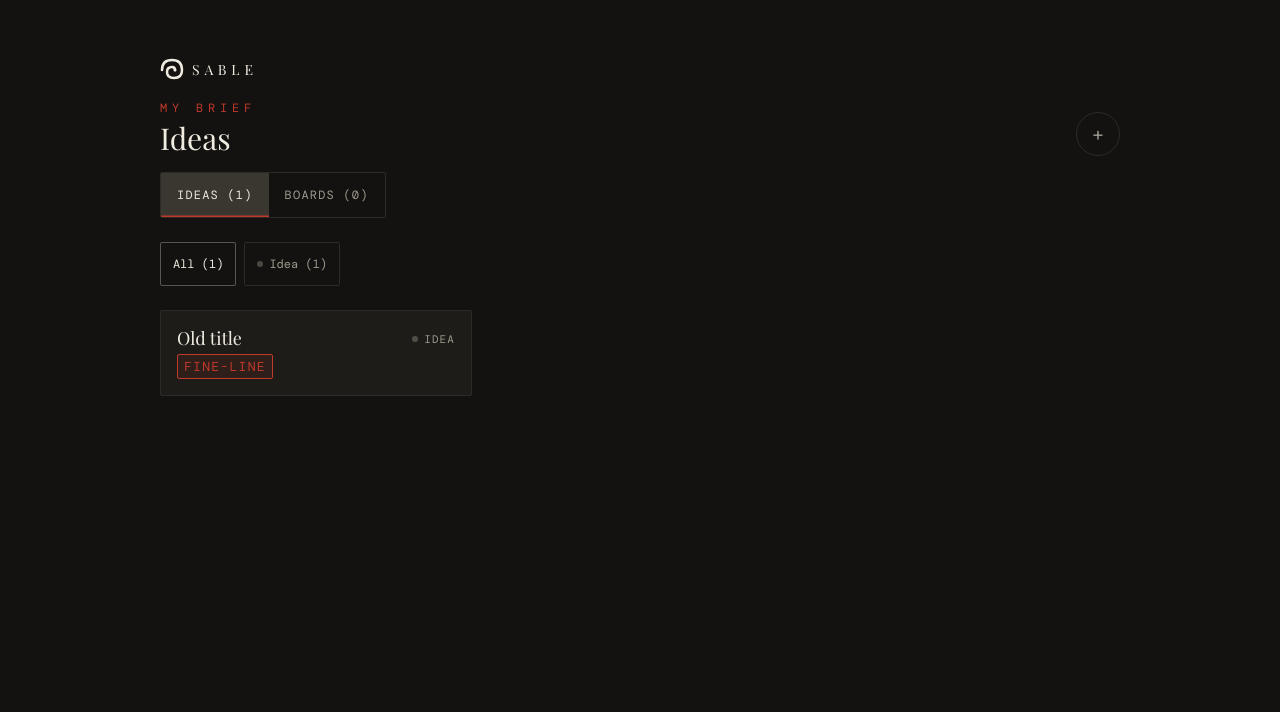
Scenario: a field an external change lands on survives an unrelated save (#63) › keeps a tag added while the composer was open, editing only the title
This screenshot has width=1280, height=712.
Click the heading "Old title". click: [209, 338]
box: [177,327,242,350]
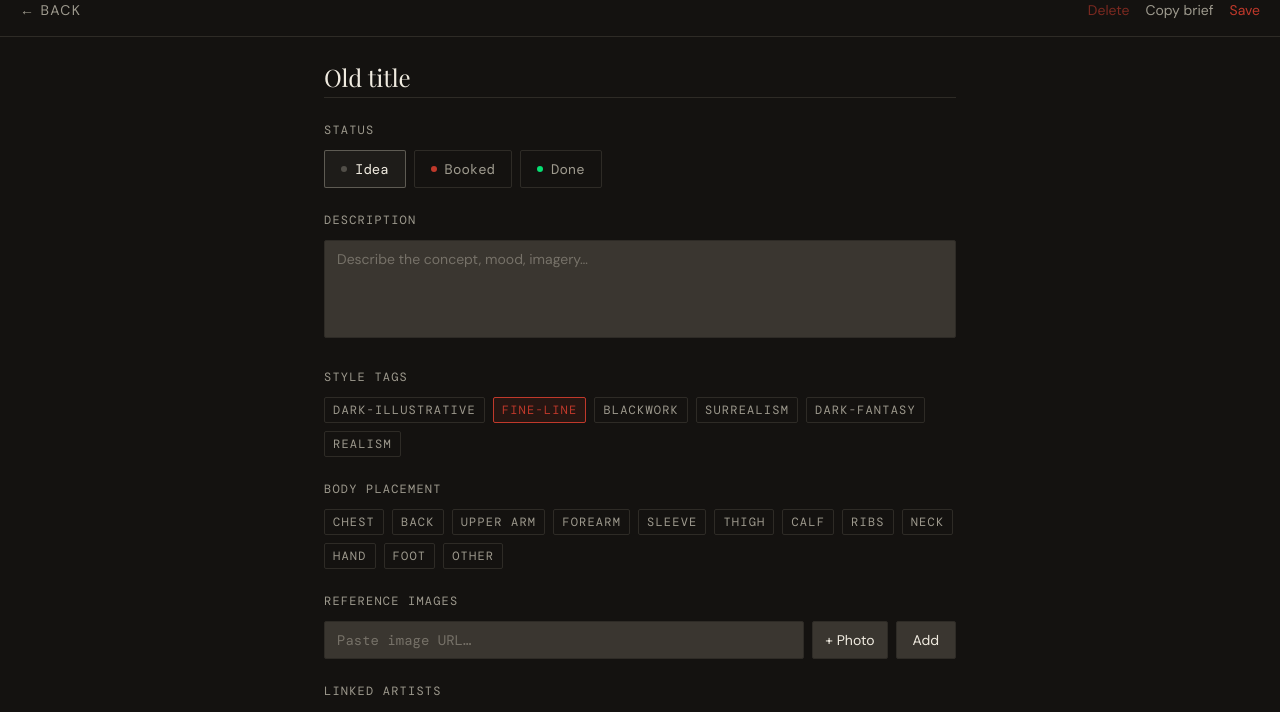
Replace the text in the field with placeholder "Idea title…" with "New title". click: [640, 80]
box: [324,61,956,98]
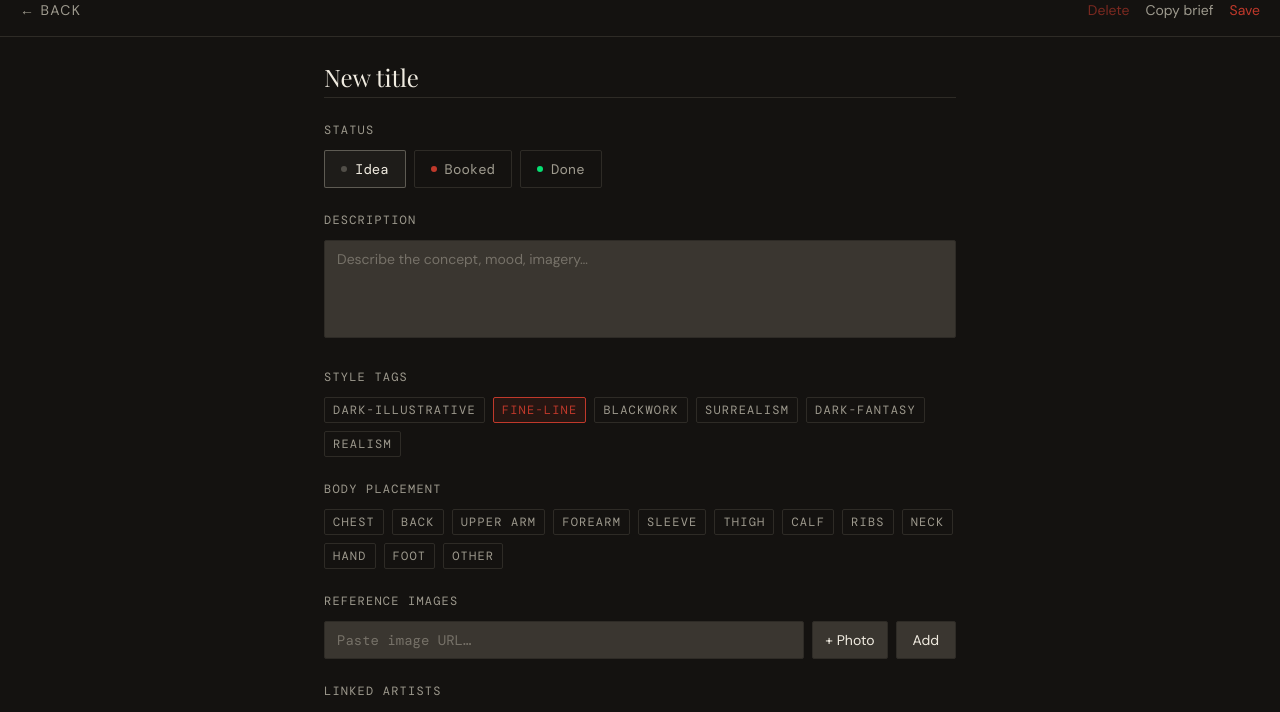
Click the button "Save". click: [1245, 10]
box: [1230,0,1260,20]
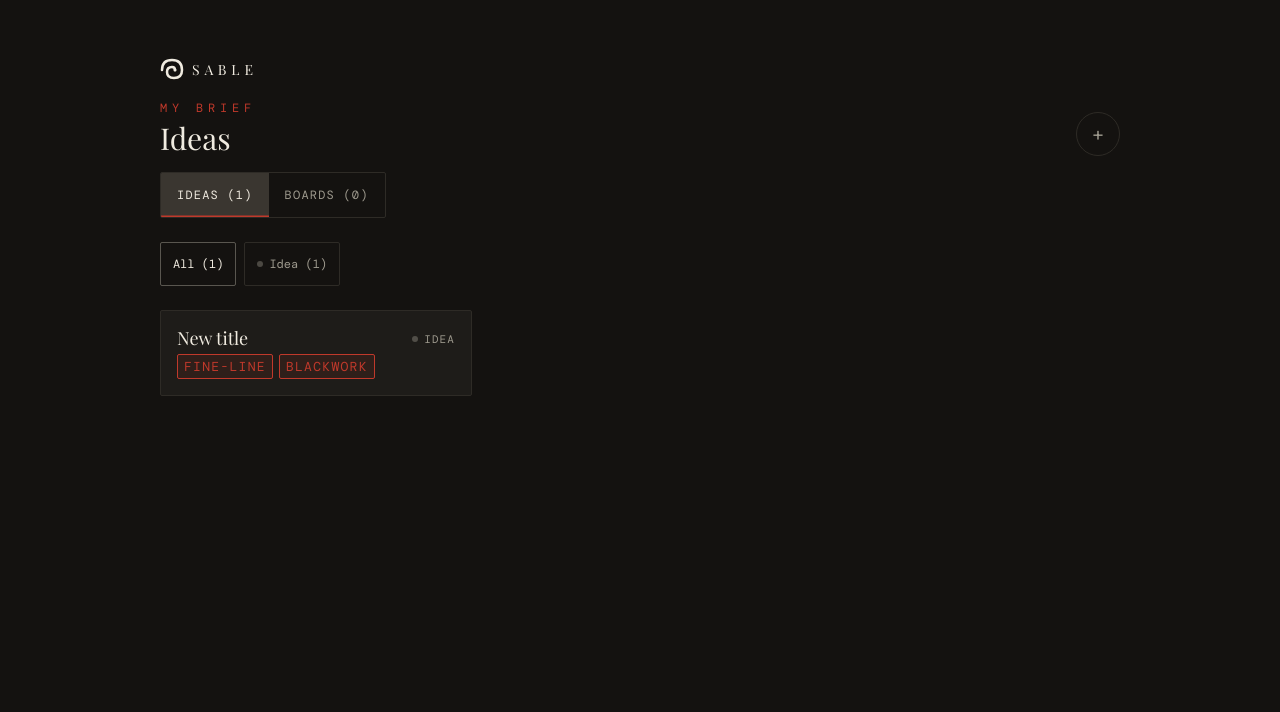
Check: the heading "Old title" reads "New title", box [177,326,248,350]
